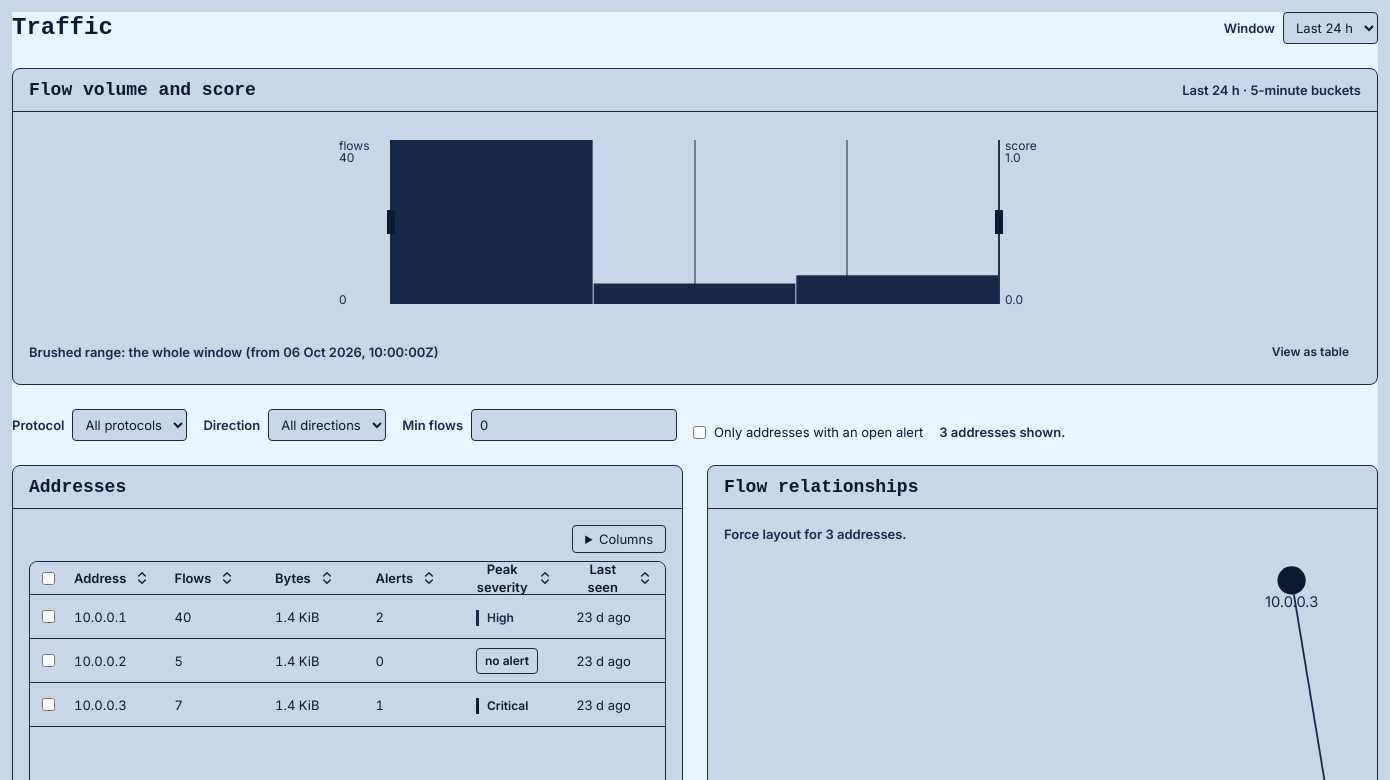
Test case: TrafficPage › pins from the table too, so the graph is not the only way in
The width and height of the screenshot is (1390, 780).
Click the button "10.0.0.3".
click(100, 704)  # box [74, 696, 127, 714]
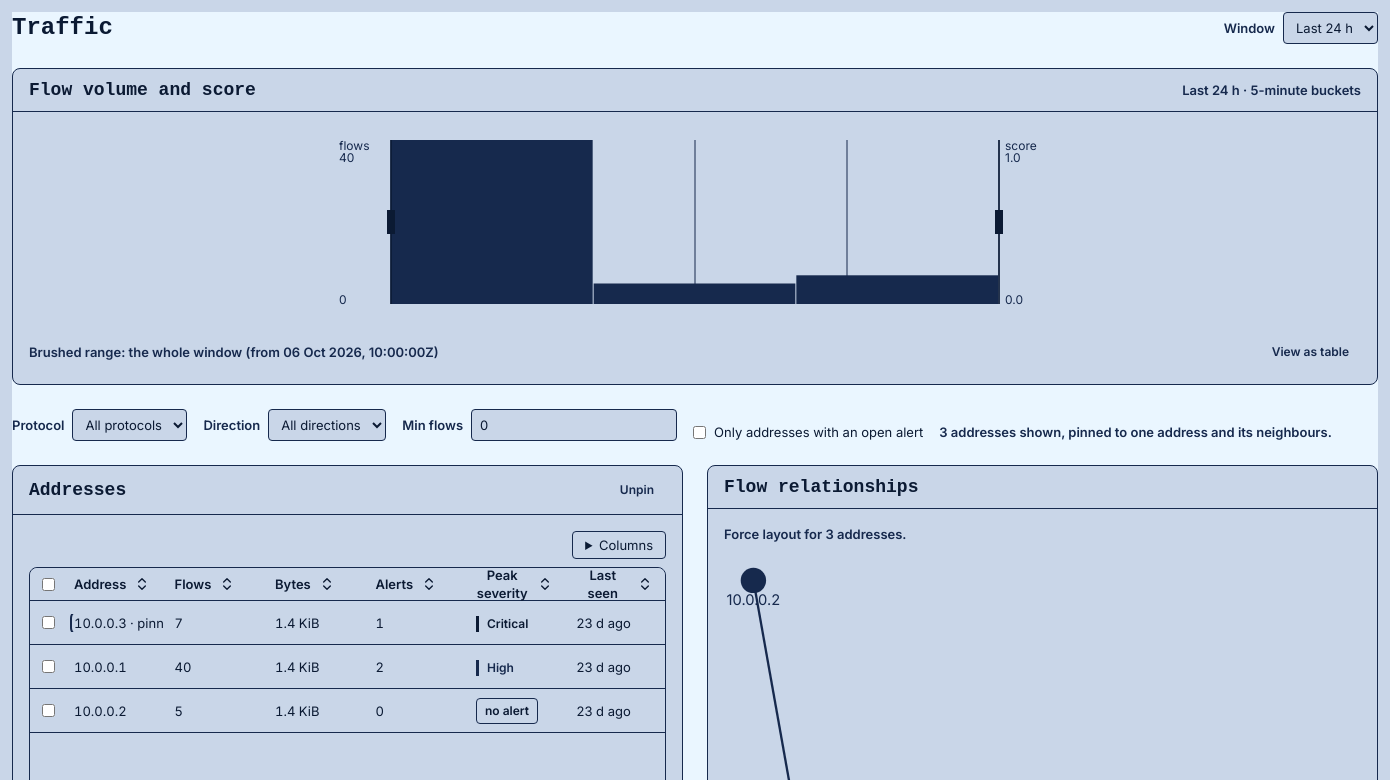
Expected: the text "3 addresses shown, pinned to one address and its neighbours." is shown, [939, 423, 1332, 441]
